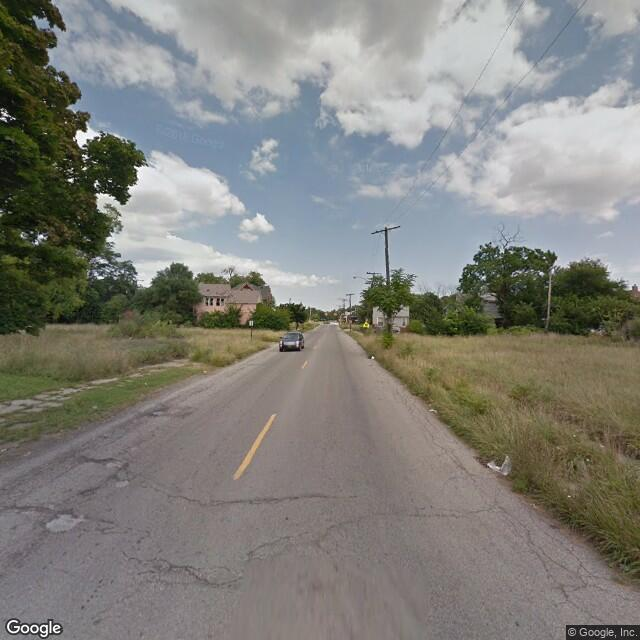litter: (485, 454, 512, 477), (370, 354, 377, 363), (428, 408, 435, 415)
